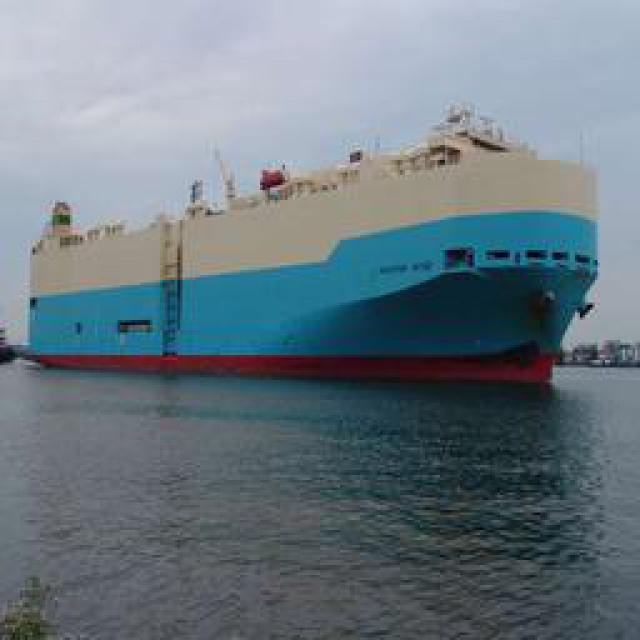Ship: (20, 104, 603, 384)
